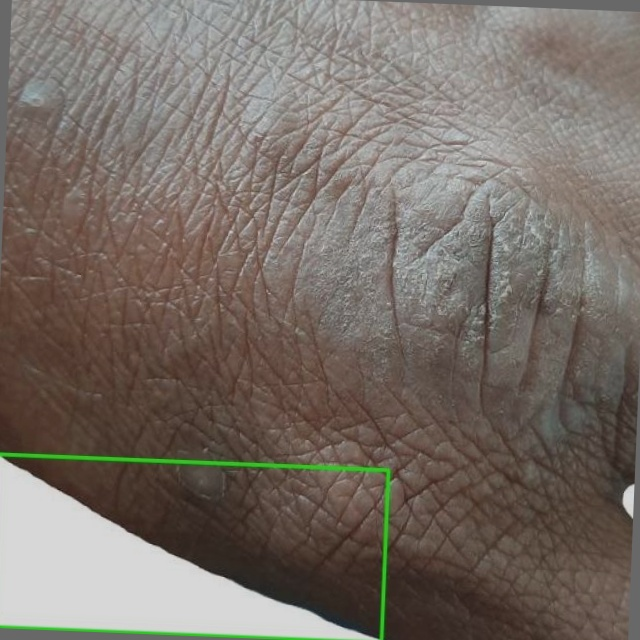Eczema: (0, 454, 388, 639)
